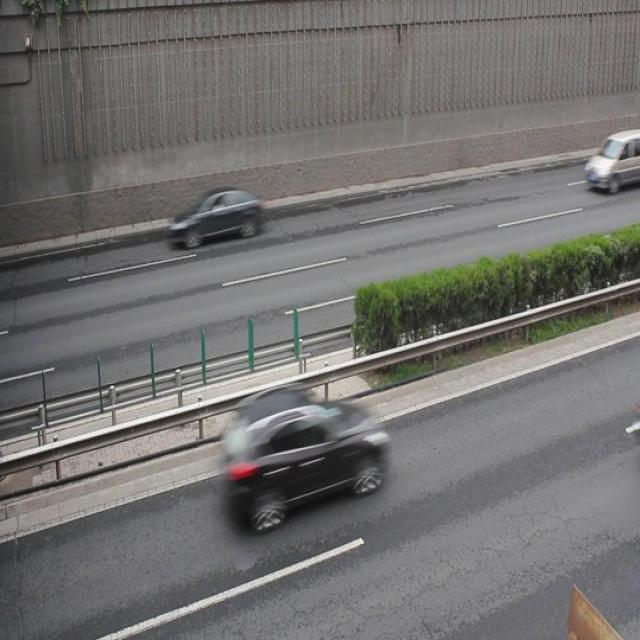car: (223, 381, 387, 524), (168, 186, 265, 247)
truck: (583, 129, 640, 193)
